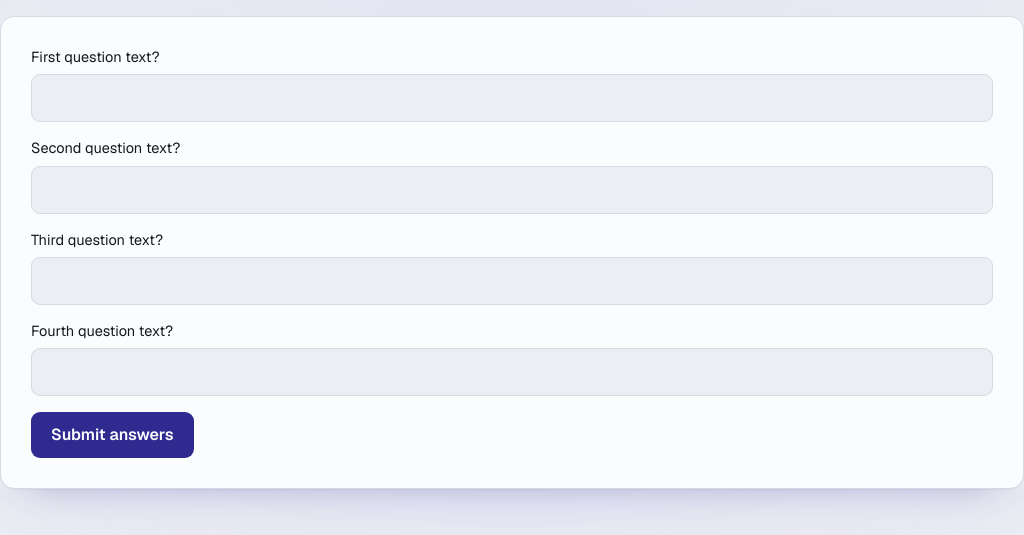
AnswerForm: successful submit › POSTs all four answers, refreshes, and disables the form
The image size is (1024, 535).
In the field labelled "First question text?": (512, 98) [31,74,993,122], type "answer 0"
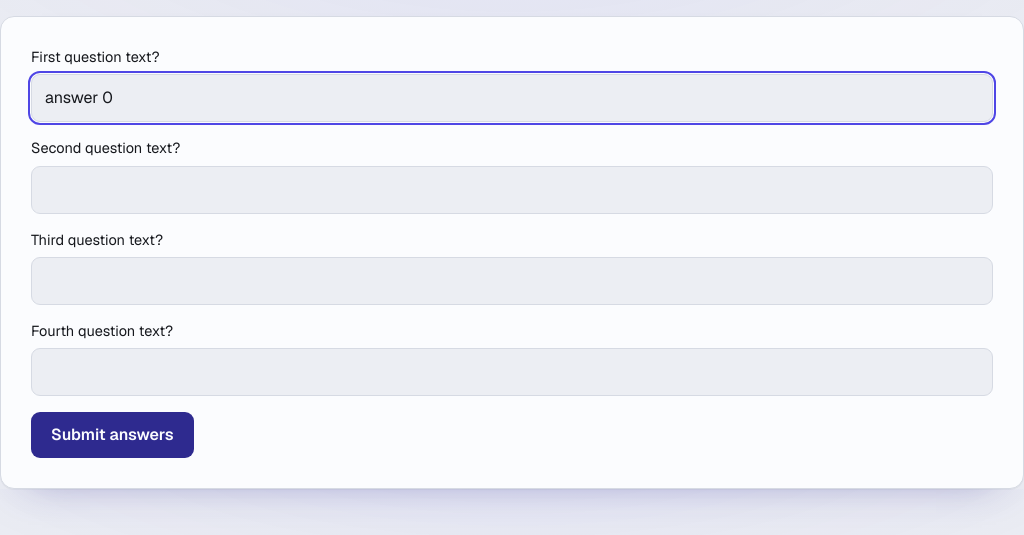
In the field labelled "Second question text?": (512, 190) [31,166,993,214], type "answer 1"
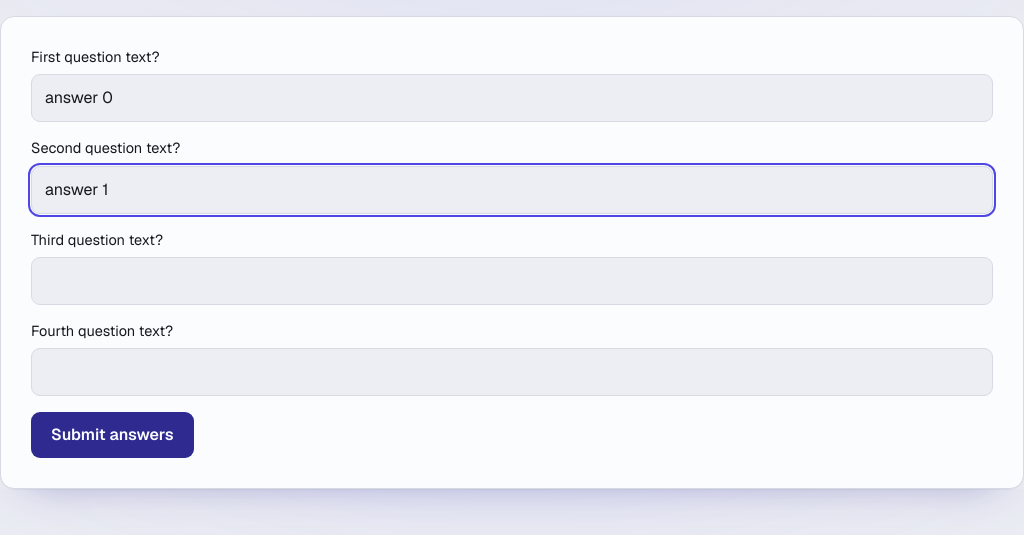
In the field labelled "Third question text?": (512, 281) [31,257,993,305], type "answer 2"
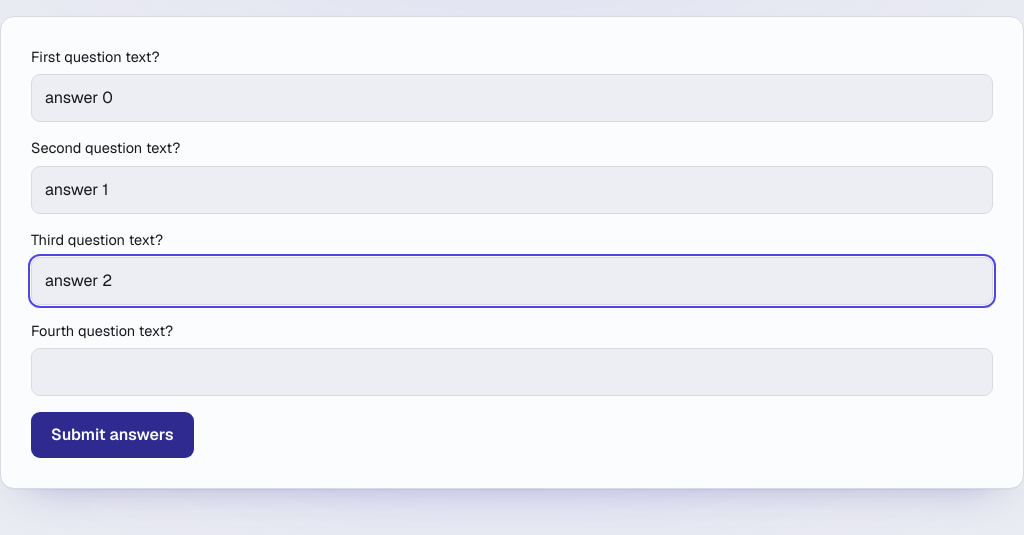
In the field labelled "Fourth question text?": (512, 372) [31,348,993,396], type "answer 3"
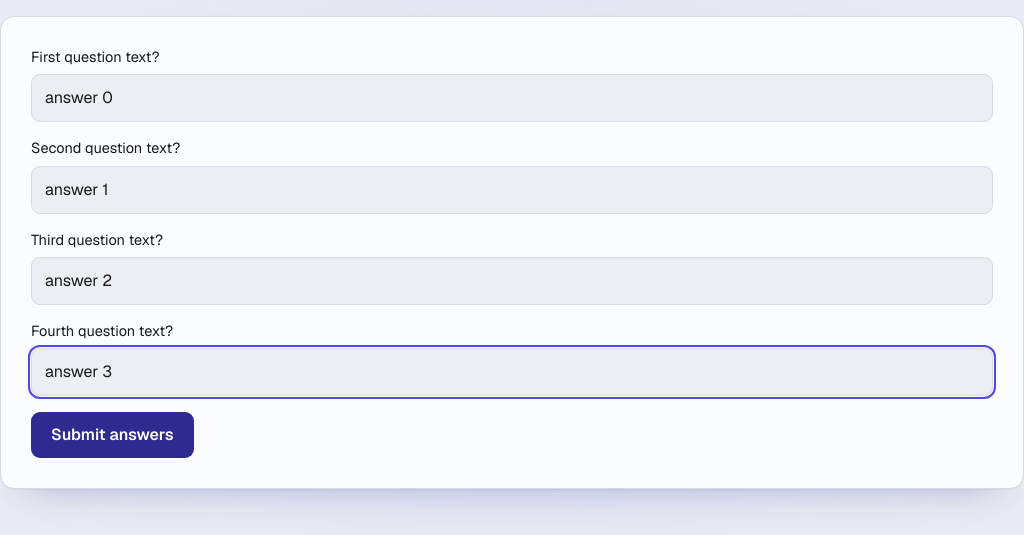
Click the button: (112, 435) [31,412,194,458]
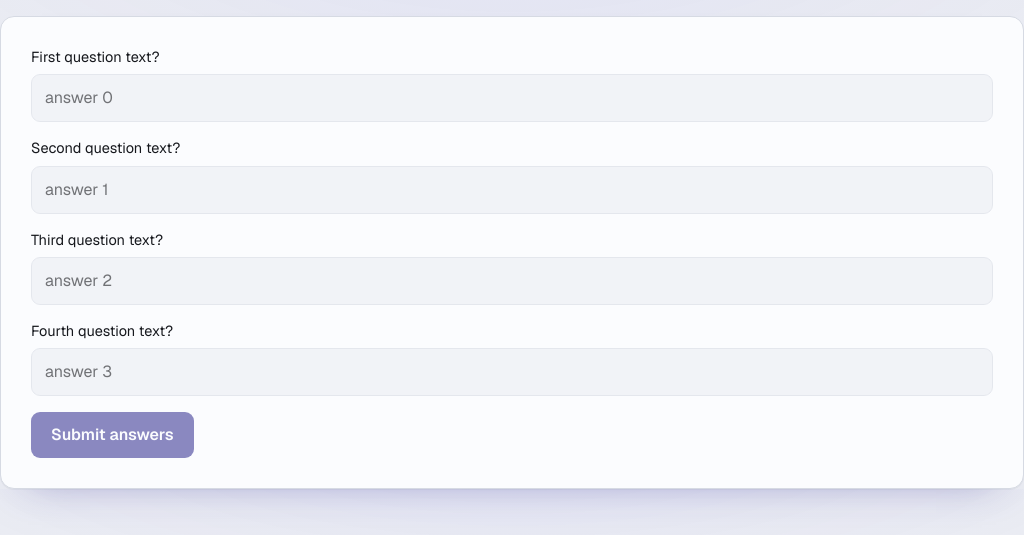
Result: the button is disabled at [31,412,194,458]
